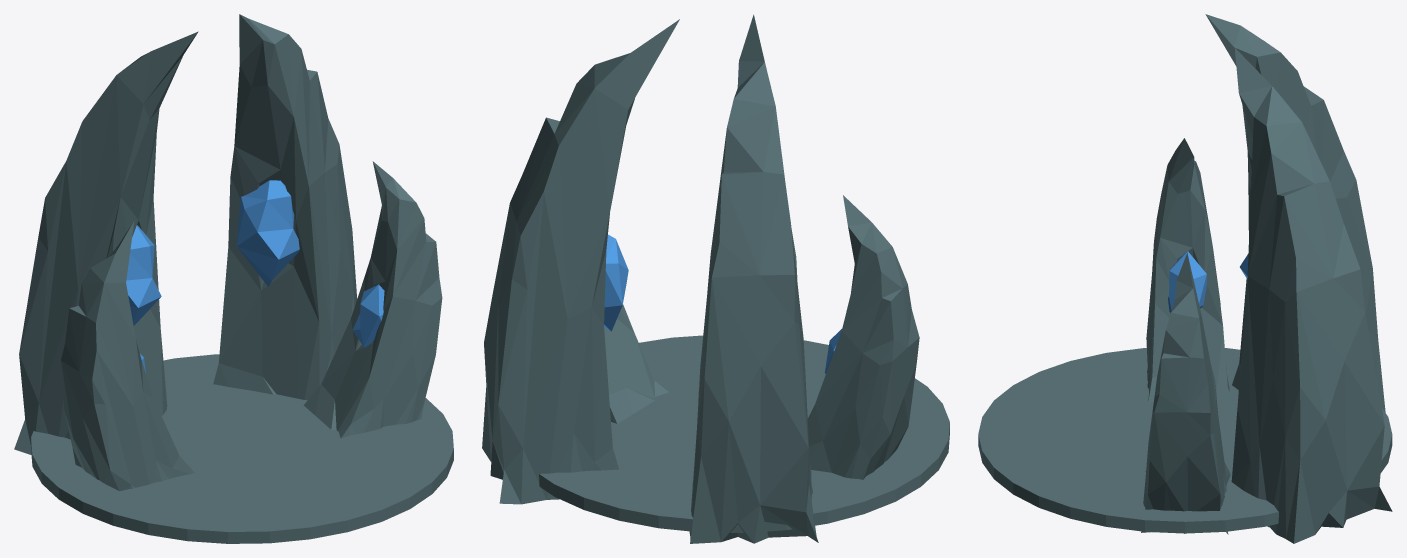
Rendered from portal 1.fbx.
The picture shows the model from 3 angles, left to right: view 1: azimuth 30°, elevation 25°; view 2: azimuth 150°, elevation 25°; view 3: azimuth 270°, elevation 25°; orthographic projection. The views are drawn at different scales.
Visible parts, largest first — view 1: Cylinder.001; view 2: Cylinder.001; view 3: Cylinder.001.
Boxes of the visible parts, x1,y1,x2,y2 form: Cylinder.001: (14,14,453,543); Cylinder.001: (482,14,949,543); Cylinder.001: (978,14,1392,543).
Bounding box in the file's own units: 1422 × 1611 × 1402.
